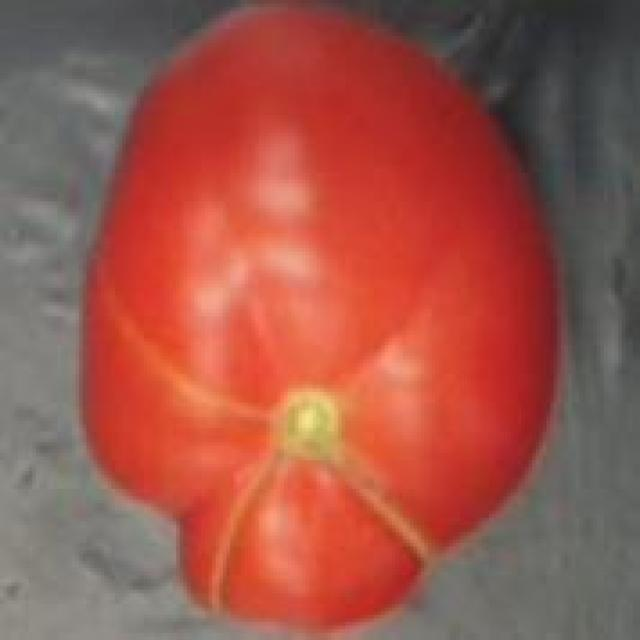overripe tomato: (58, 0, 586, 640)
